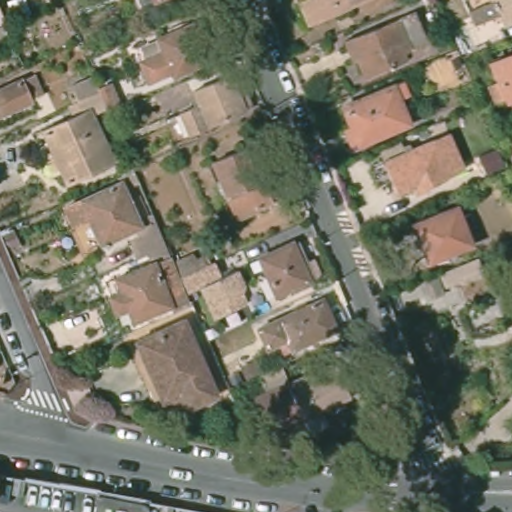pool: (248, 297, 275, 318)
